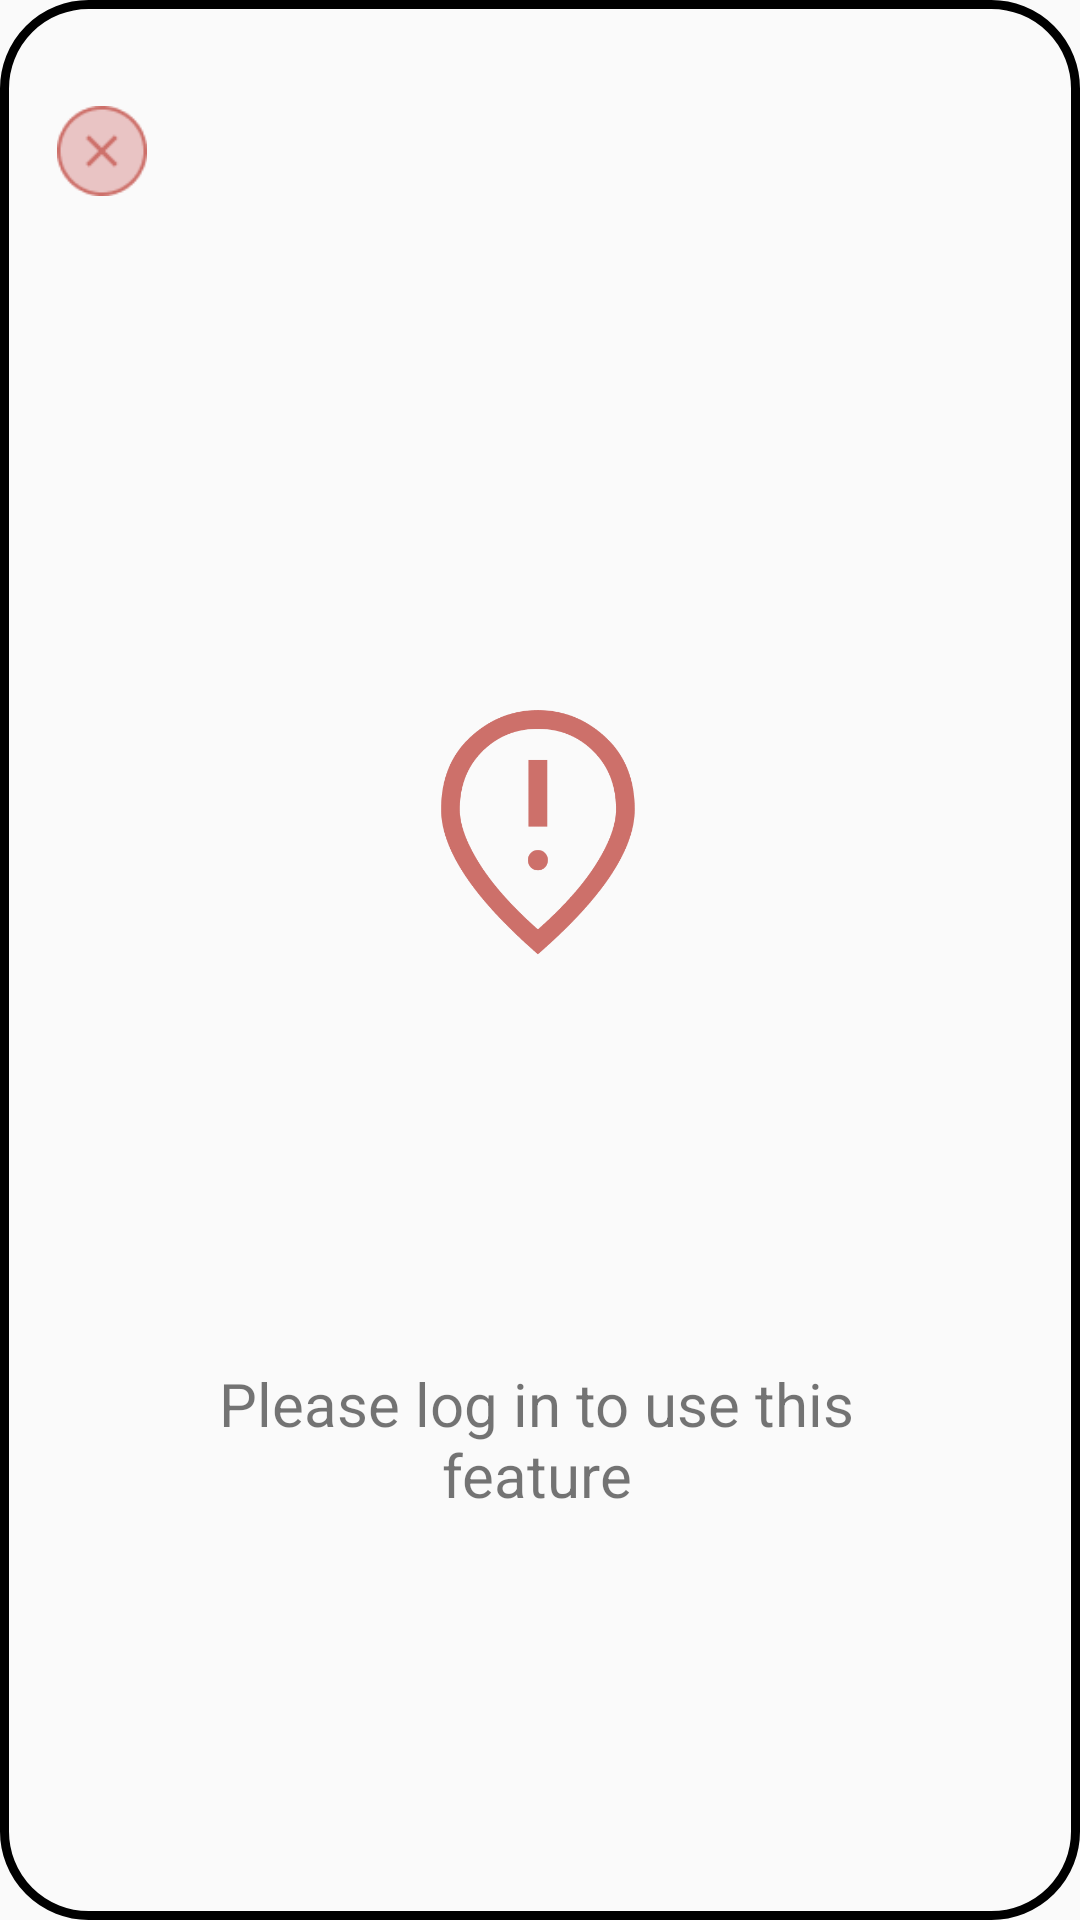

Named icons in this screenshot (1080×1920) and their centers, point (x, y):
cancel: point (102, 151)
warning: point (538, 832)
